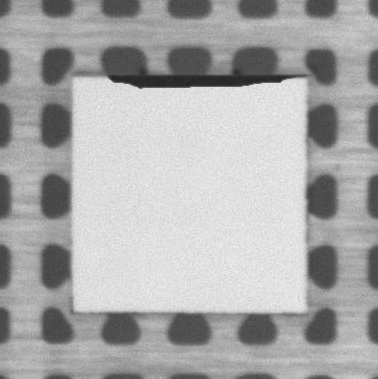DIE_BROKEN: (107, 69, 308, 90)
